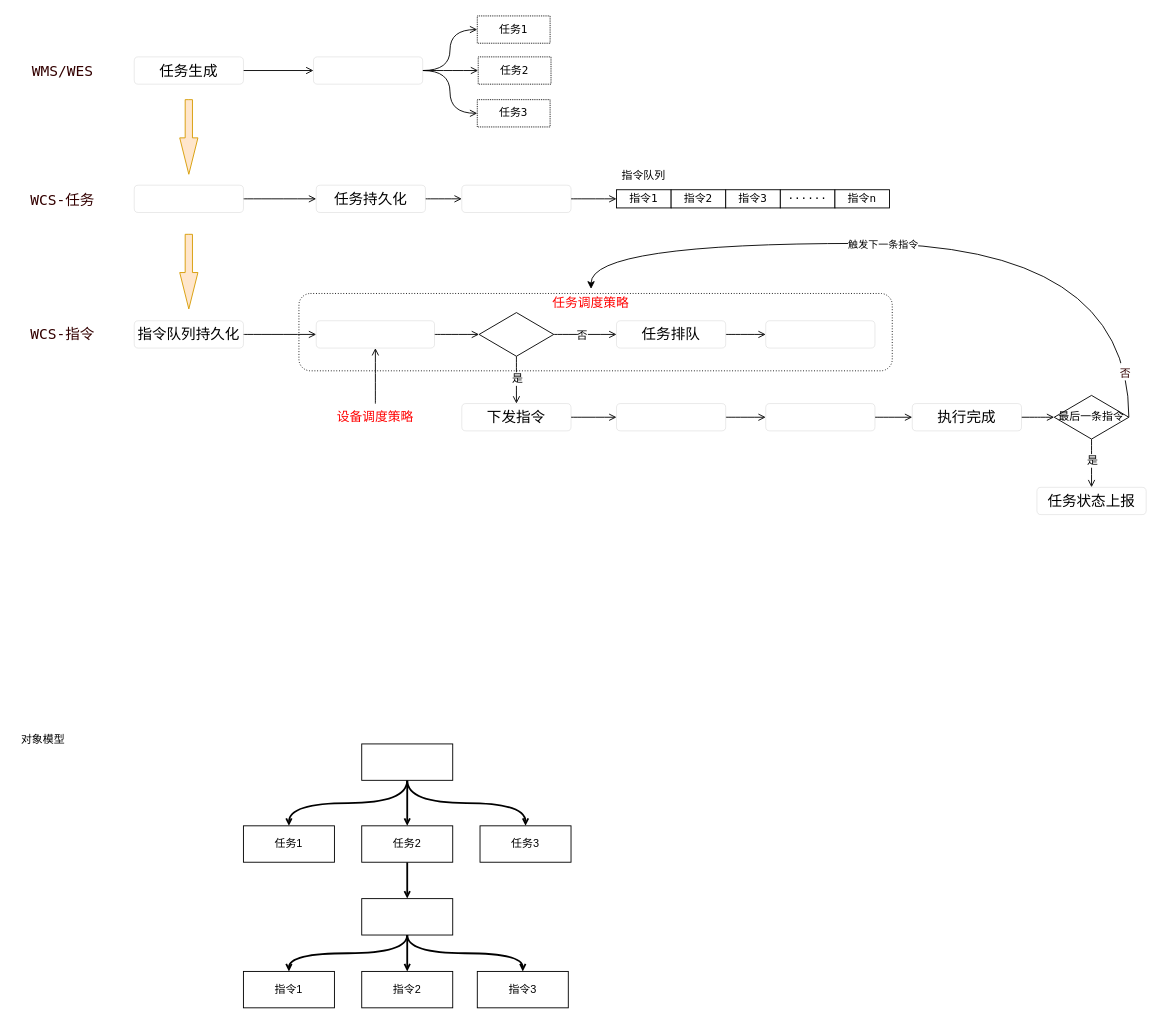
The diagram is 1161 pixels wide and 1024 high, and some of its shapes have lost their labels. Each missing label, with the centre of its shape:
"任务" belongs at point 407,761.
"任务下发" belongs at point 367,70.
"任务接收" belongs at point 188,198.
"任务调度" belongs at point 820,334.
"拆解依据：业务流程及设备" belongs at point 514,169.
"指令" belongs at point 407,916.
"指令拆解" belongs at point 516,198.
"指令获取设备" belongs at point 375,334.
"设备上报" belongs at point 820,416.
"设备可用" belongs at point 516,334.
"设备执行" belongs at point 670,416.
